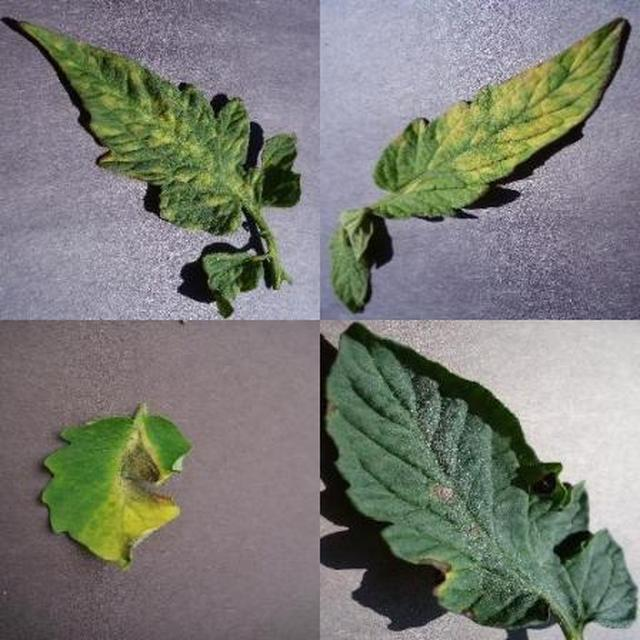Leaf Mold: (164, 171, 640, 640)
